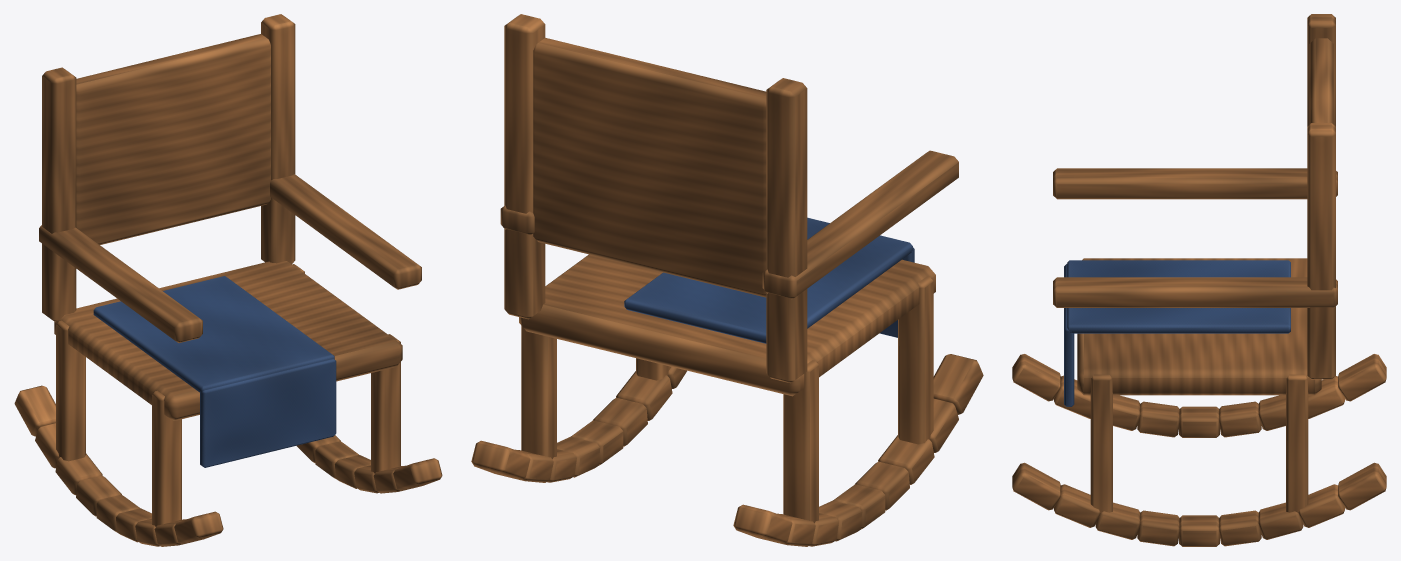
The model's file is Furn_Life_RockingChair.fbx.
The picture shows the model from 3 angles, left to right: view 1: azimuth 30°, elevation 25°; view 2: azimuth 150°, elevation 25°; view 3: azimuth 270°, elevation 25°; orthographic projection. The views are drawn at different scales.
Visible parts, largest first — view 1: Furn_Life_RockingChair; view 2: Furn_Life_RockingChair; view 3: Furn_Life_RockingChair.
Boxes of the visible parts, x1,y1,x2,y2 form: Furn_Life_RockingChair: [14, 14, 442, 546]; Furn_Life_RockingChair: [471, 14, 983, 546]; Furn_Life_RockingChair: [1012, 14, 1386, 546].
Bounding box in the file's own units: 0.7 × 1.1 × 0.9.
Materials: 2 (2 with a texture image).
